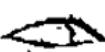Mouth: (4, 11, 103, 48)
